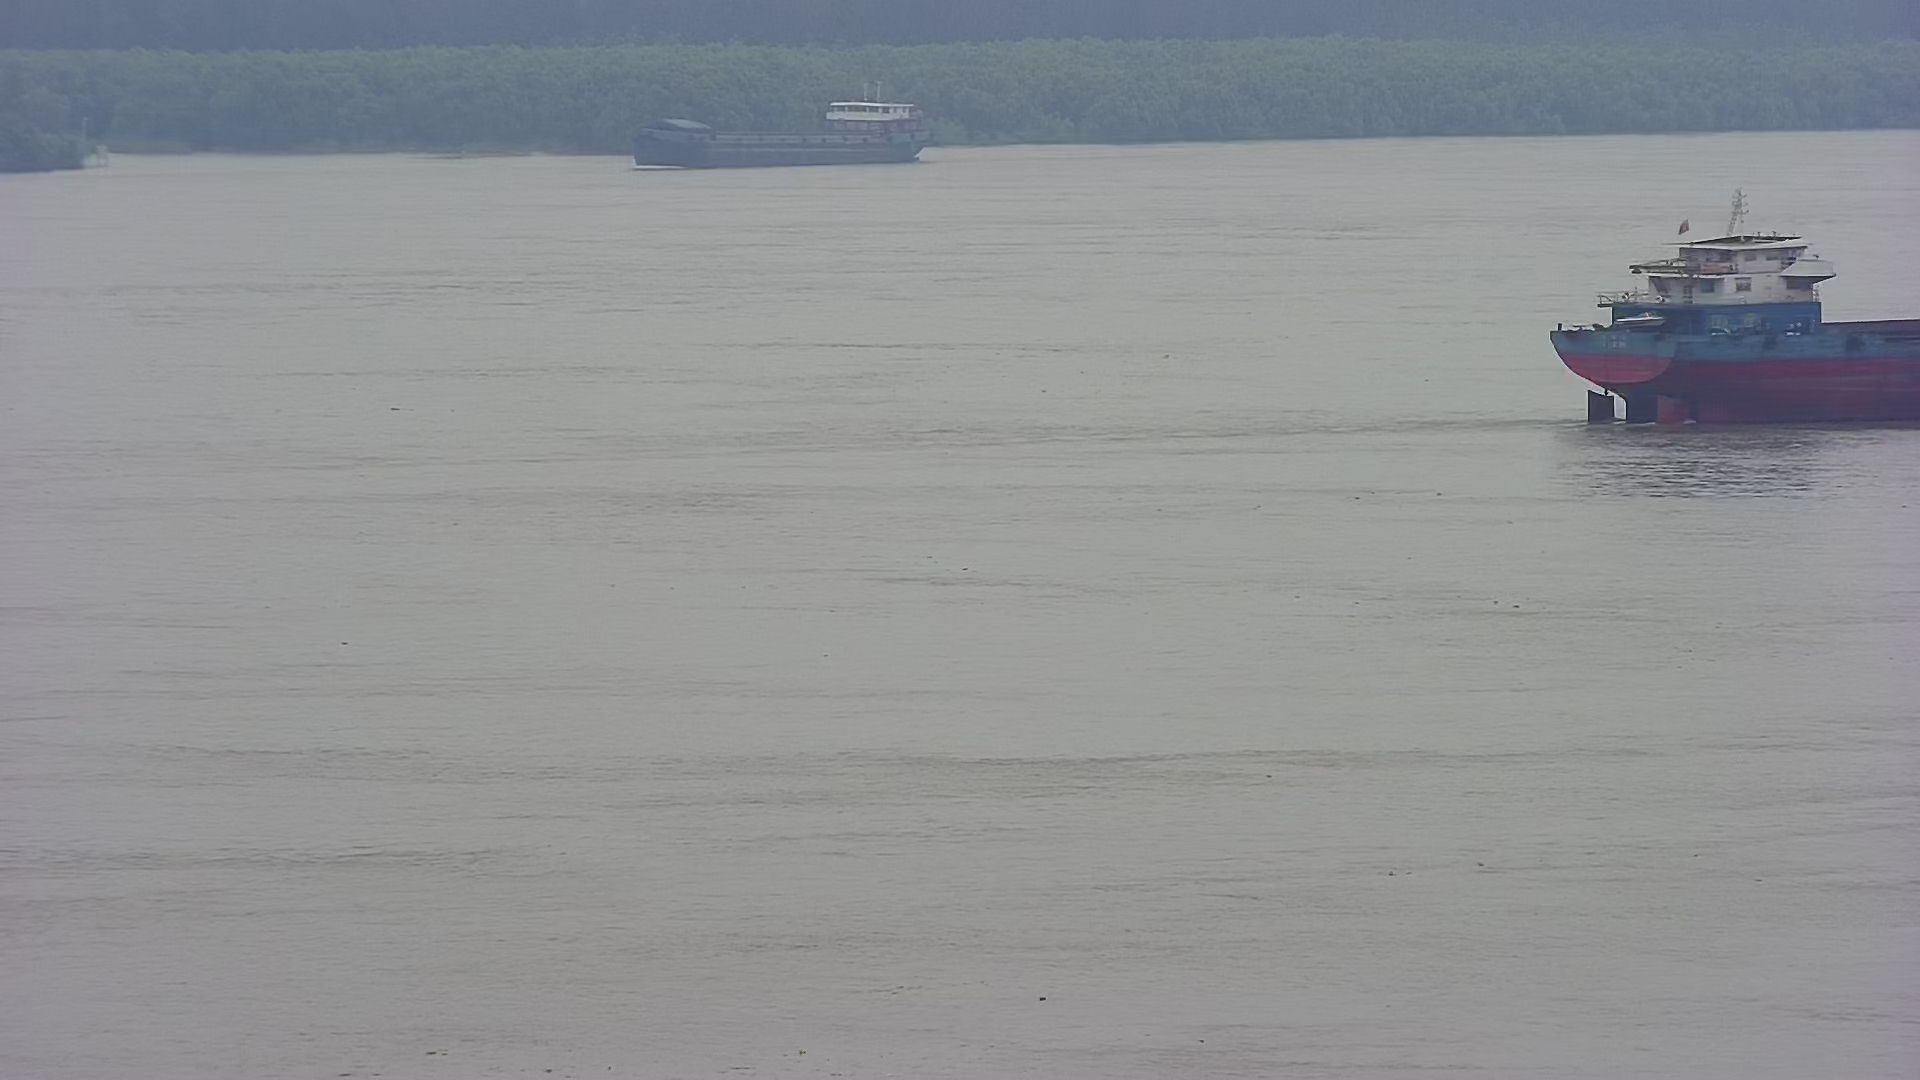ship: (1522, 166, 1920, 448), (629, 74, 939, 183)
